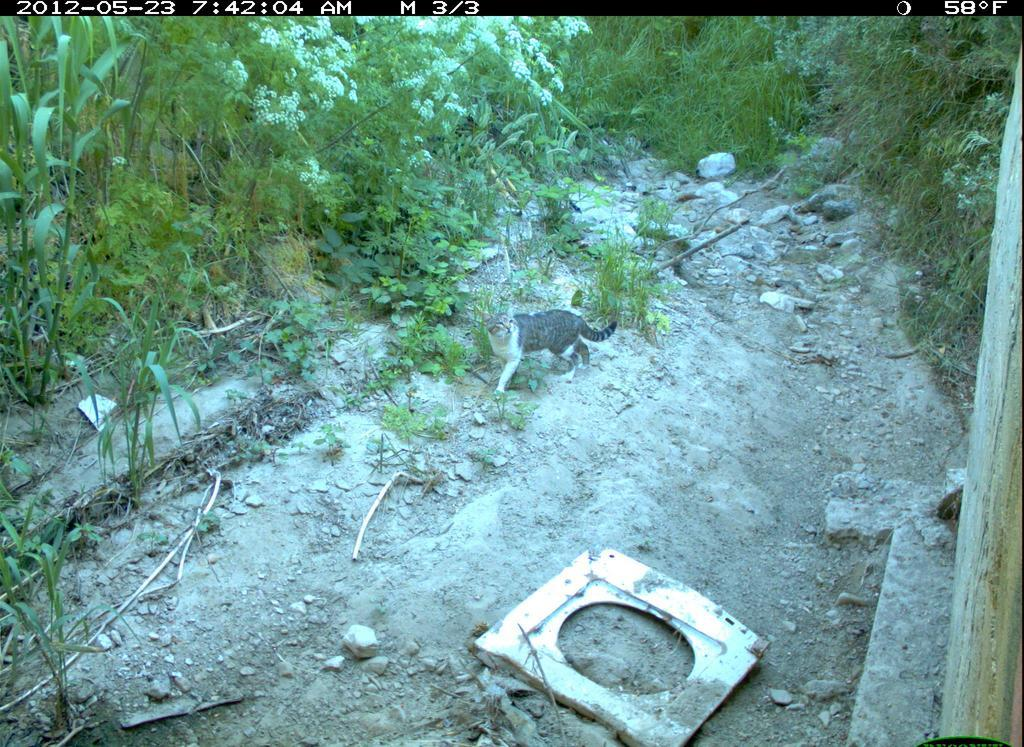cat: (474, 296, 625, 402)
